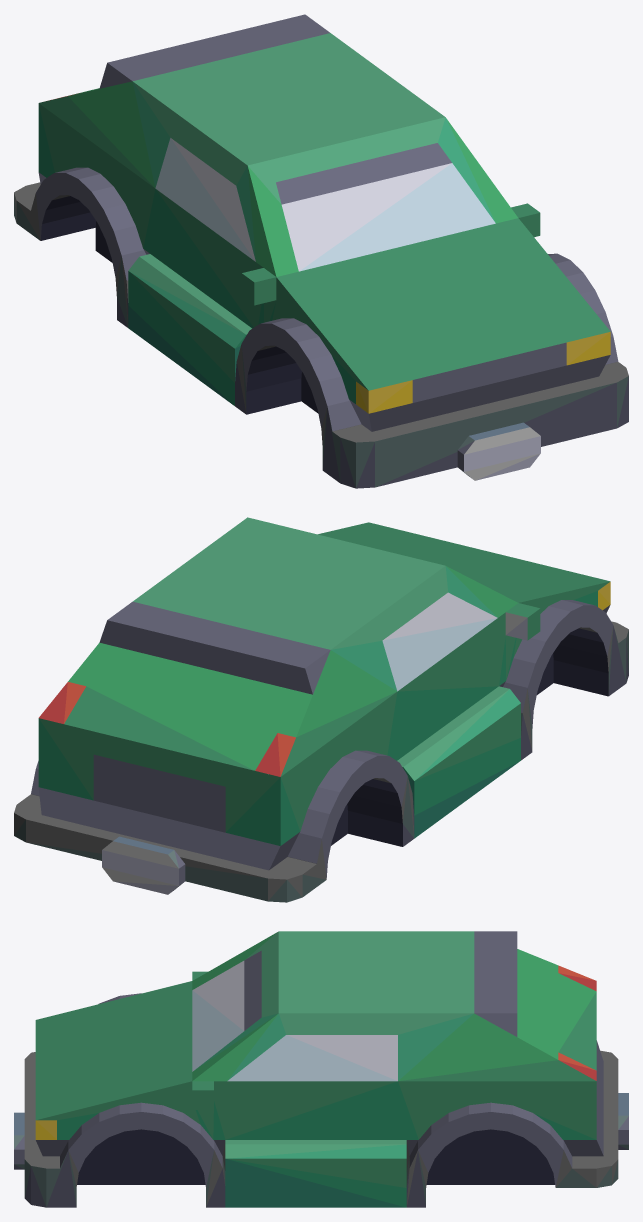
The model's file is kaido.glb.
The picture shows the model from 3 angles, top to bottom: view 1: azimuth 30°, elevation 25°; view 2: azimuth 150°, elevation 25°; view 3: azimuth 270°, elevation 25°; orthographic projection. The views are drawn at different scales.
Visible parts, largest first — view 1: body; view 2: body; view 3: body.
Boxes of the visible parts, x1=… form: body: x1=14, y1=14, x2=628, y2=488; body: x1=14, y1=517, x2=628, y2=902; body: x1=14, y1=931, x2=628, y2=1207.
Size of the model in its own units: 1.88 by 1.38 by 4.13.
